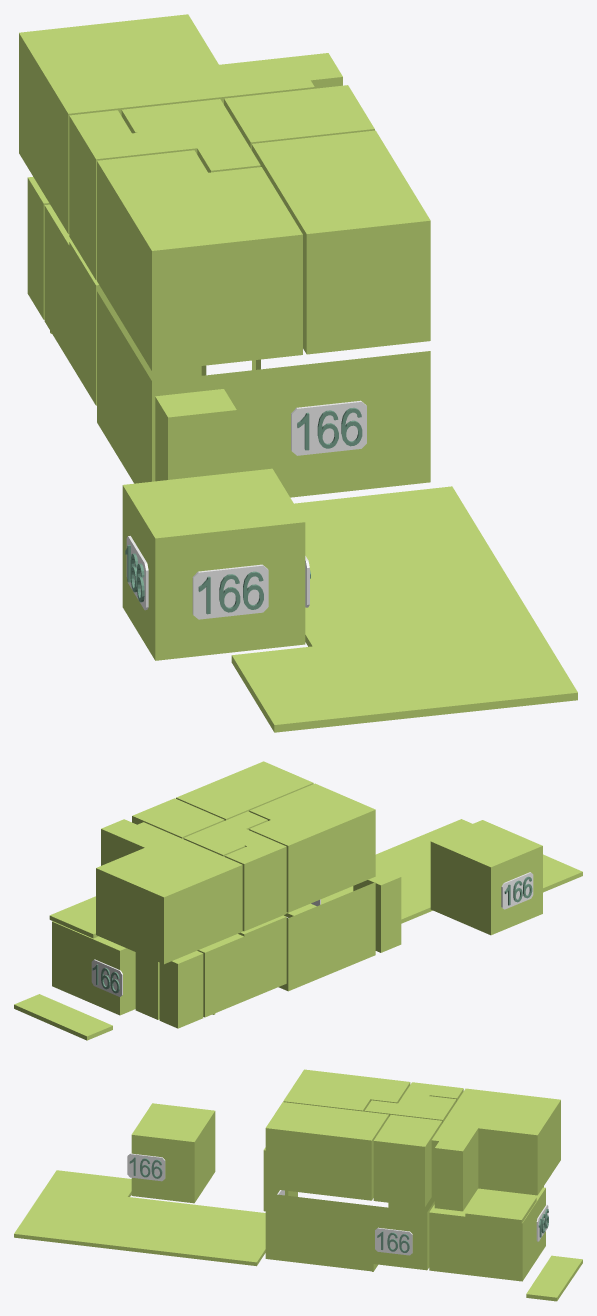
3 views of the same model, one above another, from view 1: azimuth 30°, elevation 25°; view 2: azimuth 150°, elevation 25°; view 3: azimuth 270°, elevation 25° (orthographic). The views are drawn at different scales.
Visible parts, largest first — view 1: g_14, g_6, g_1, g_7, g_5, g_8, g_2, g_4, g_10, g_9, g_11, g_30 (+2 smaller); view 2: g_8, g_6, g_5, g_2, g_1, g_0, g_14, g_7, g_11, g_3, g_4, g_13 (+5 smaller); view 3: g_14, g_8, g_1, g_7, g_0, g_5, g_10, g_6, g_12, g_9, g_13, g_34 (+3 smaller).
Boxes of the visible parts, x1,y1,x2,y2 form: g_14: (231, 486, 577, 732); g_6: (97, 150, 302, 371); g_1: (97, 291, 430, 497); g_7: (251, 130, 430, 354); g_5: (122, 468, 305, 660); g_8: (19, 14, 342, 234); g_2: (44, 204, 201, 405); g_4: (155, 389, 236, 481); g_10: (224, 85, 374, 149); g_9: (121, 99, 260, 172); g_11: (69, 110, 151, 280); g_30: (192, 564, 268, 619); g_8: (96, 819, 242, 964); g_6: (249, 783, 375, 912); g_5: (430, 820, 542, 935); g_2: (135, 915, 286, 1019); g_1: (278, 882, 375, 991); g_0: (52, 921, 135, 1015); g_14: (284, 819, 582, 923); g_7: (176, 761, 313, 820); g_11: (224, 837, 286, 931); g_3: (159, 951, 203, 1028); g_4: (353, 866, 401, 952); g_13: (14, 994, 112, 1040); g_14: (14, 1170, 265, 1266); g_8: (431, 1088, 560, 1211); g_1: (265, 1193, 434, 1271); g_7: (265, 1102, 388, 1200); g_0: (429, 1187, 545, 1281); g_5: (131, 1103, 215, 1203); g_10: (373, 1114, 442, 1206); g_6: (283, 1069, 410, 1111); g_12: (465, 1190, 536, 1223); g_9: (364, 1094, 456, 1123); g_13: (526, 1255, 582, 1301); g_34: (127, 1153, 165, 1181).
Bounding box in the file's own units: 11.33 × 5.35 × 20.44.
